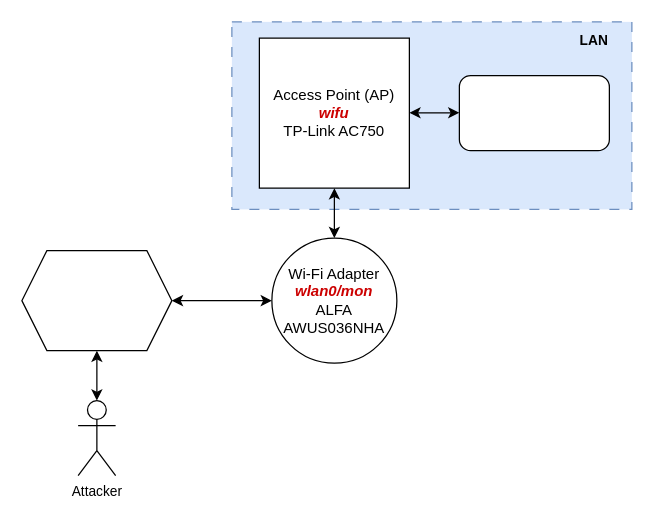
Some shapes in this 654 by 523 pixel diagram are drawn without their labels. The shapes that lost their labels are listed below. From the top down, each one's centre as x and y in pixels, then its label:
pixel 533 112: Client Raspberry Pi 2
pixel 96 300: VMware Kali Linux
